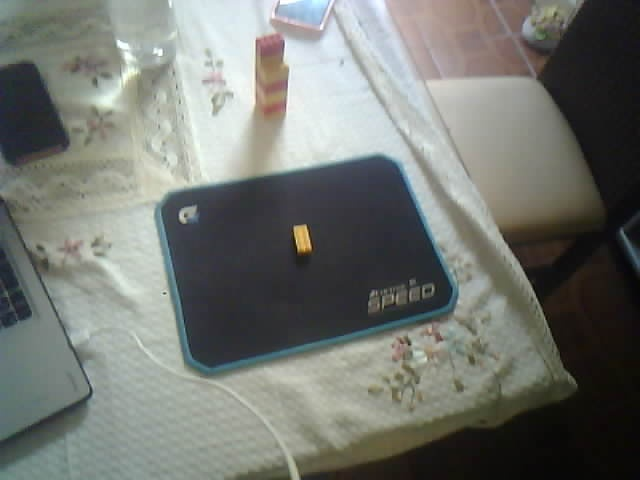lego: (254, 33, 289, 120), (291, 224, 313, 256)
